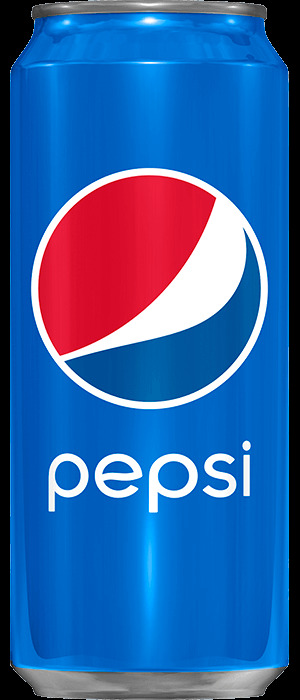pepsi: (6, 4, 297, 700)
